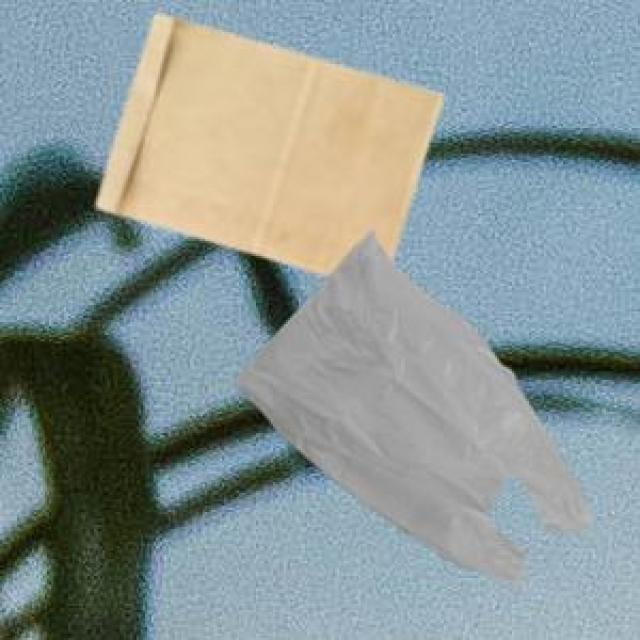paper: (92, 11, 437, 271)
